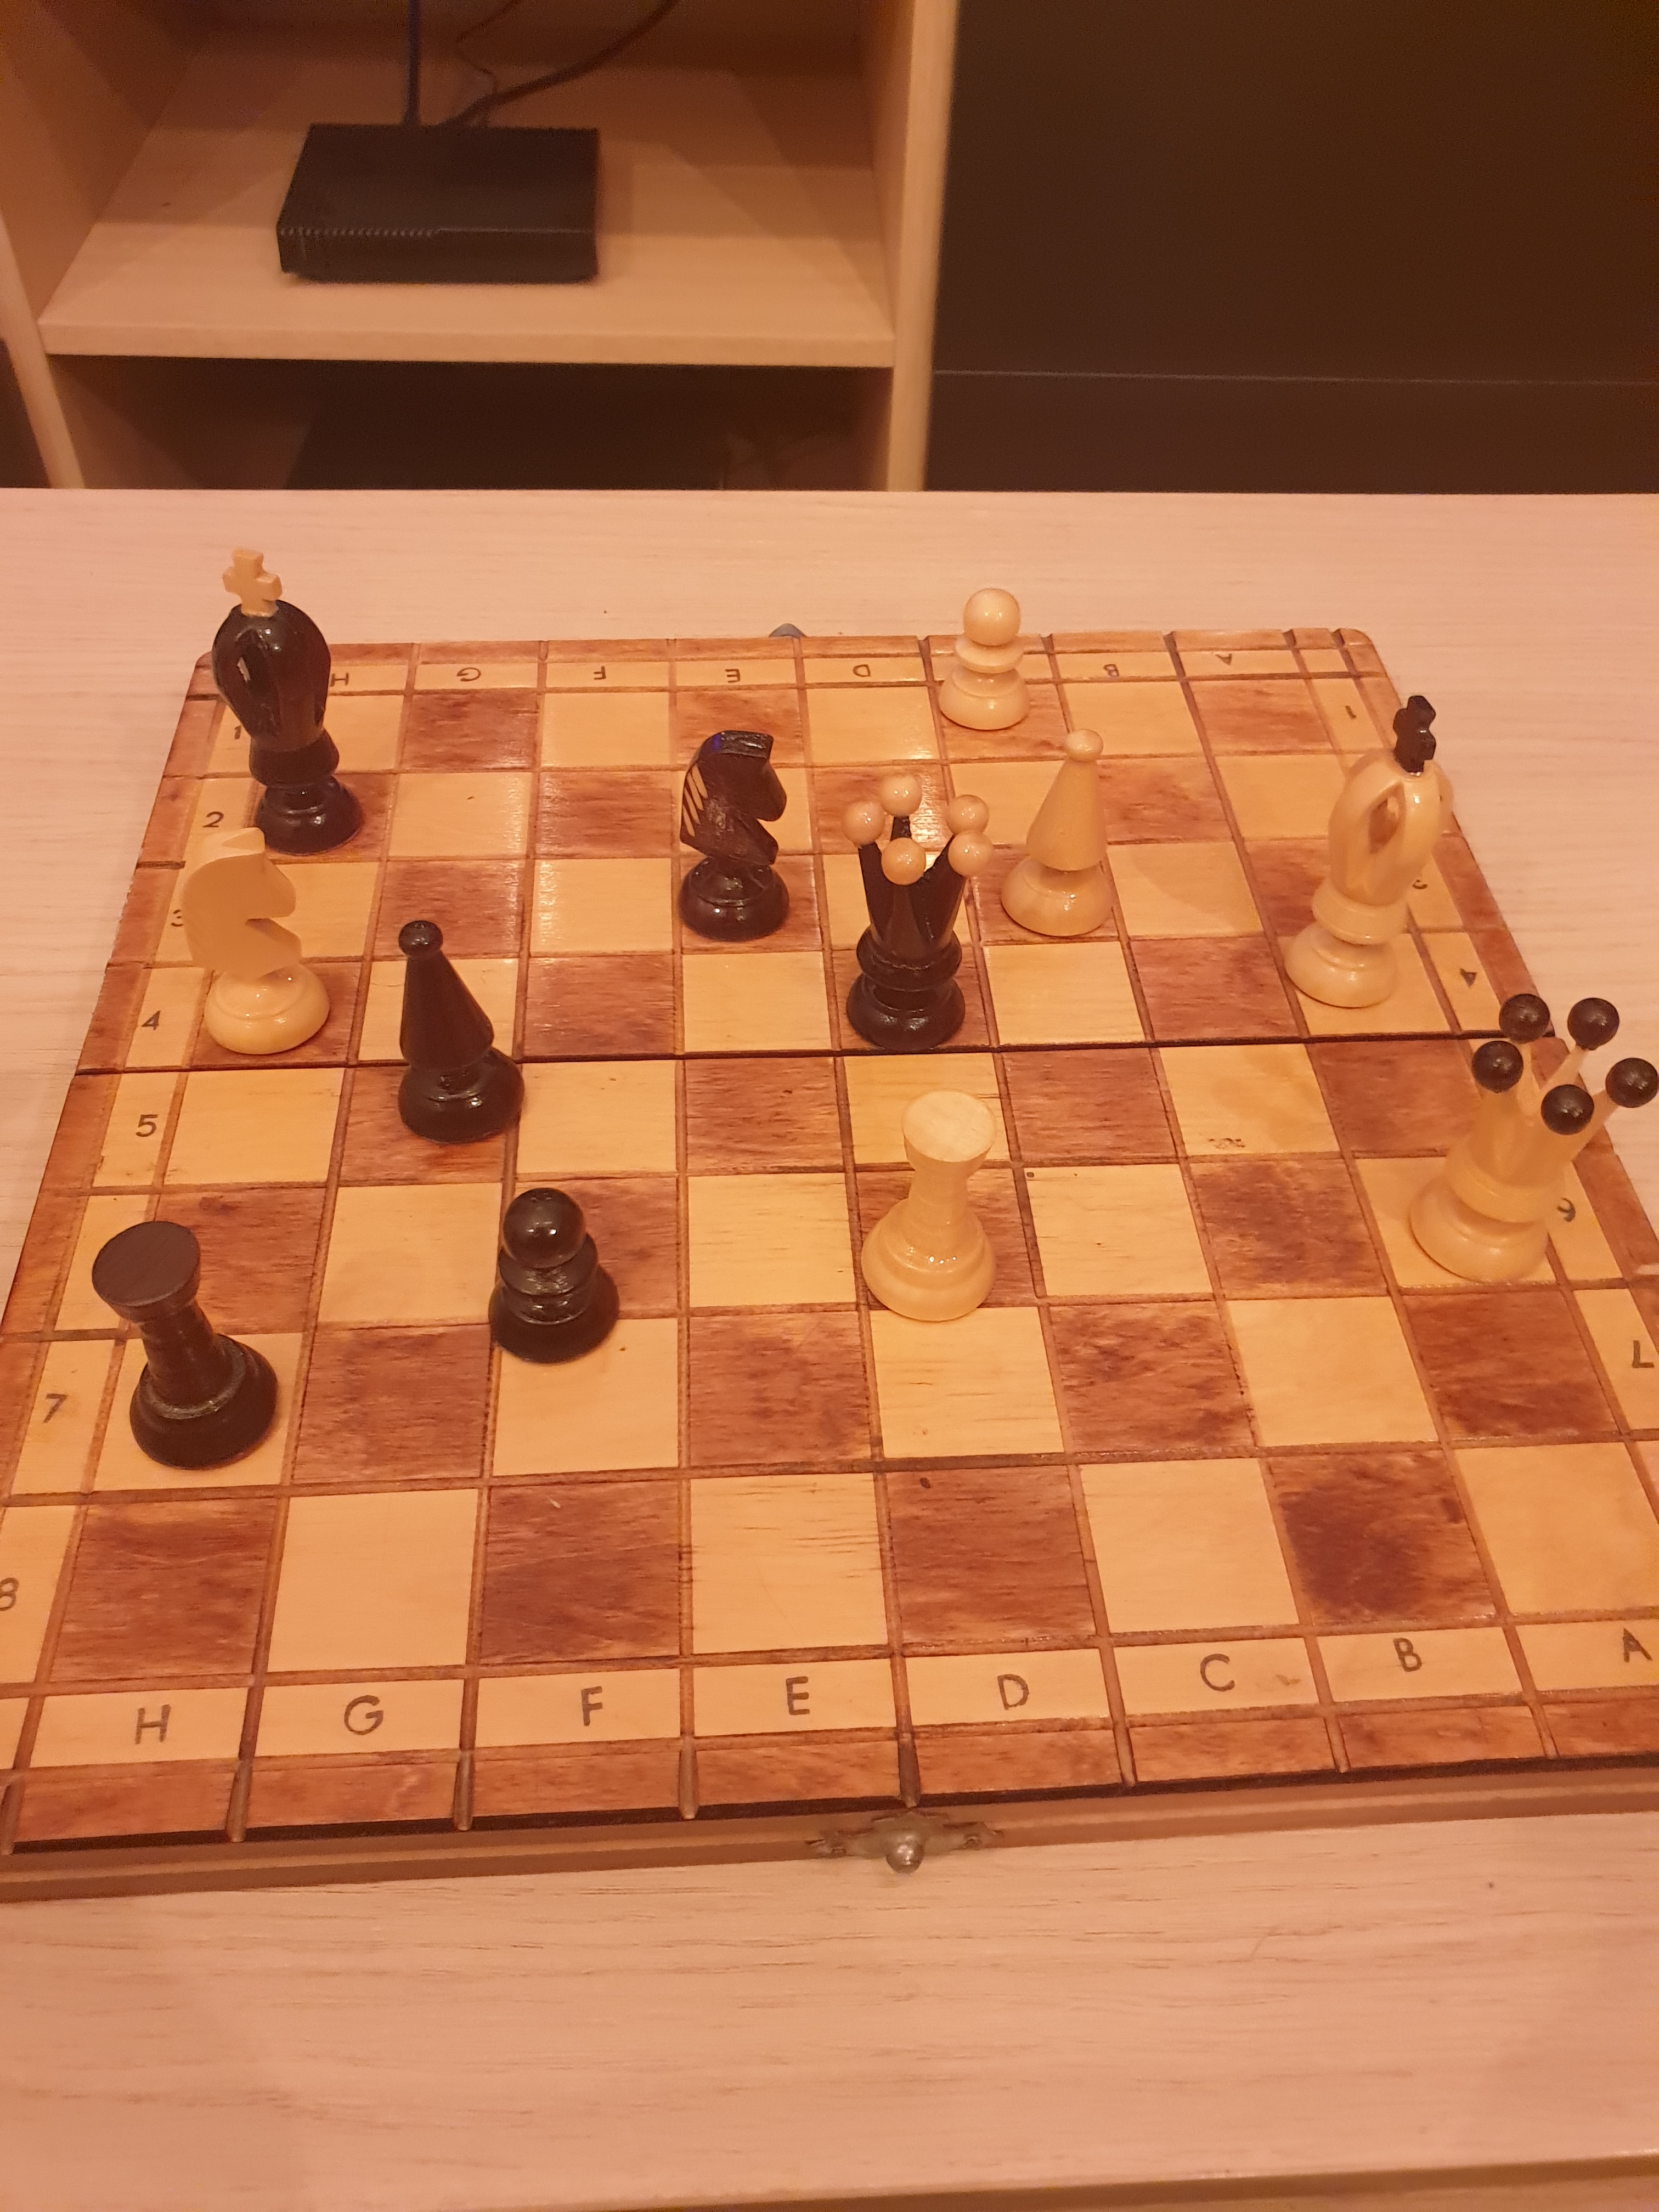bbishop: (387, 906, 540, 1151)
bking: (195, 531, 380, 867)
bknight: (671, 725, 805, 958)
bpawn: (472, 1167, 634, 1378)
bqueen: (835, 761, 999, 1061)
brook: (89, 1216, 289, 1470)
wbishop: (995, 721, 1127, 956)
wking: (1270, 683, 1464, 1024)
wknight: (169, 820, 342, 1061)
wpawn: (929, 571, 1042, 745)
wqueen: (1392, 986, 1659, 1317)
wrook: (854, 1083, 1019, 1334)
